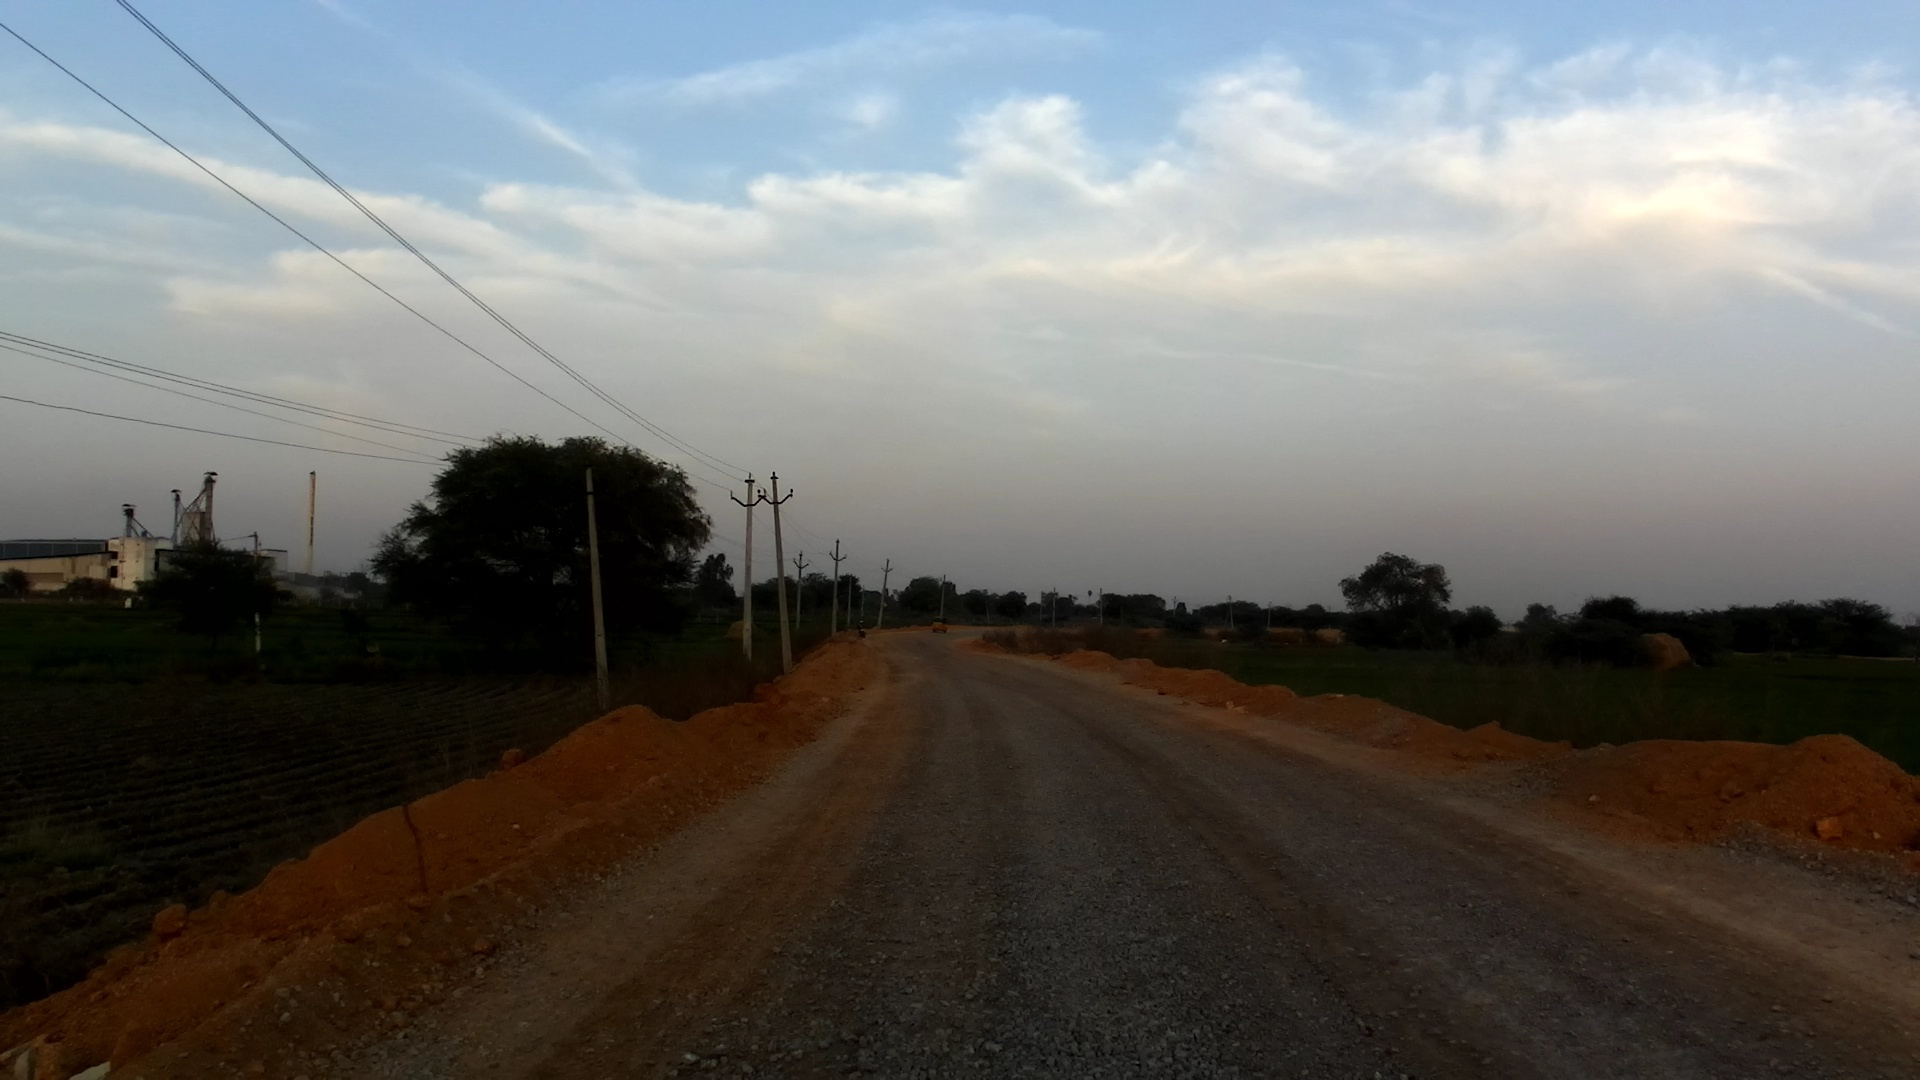autorickshaw: (932, 617, 952, 634)
motorcycle: (851, 618, 866, 642)
